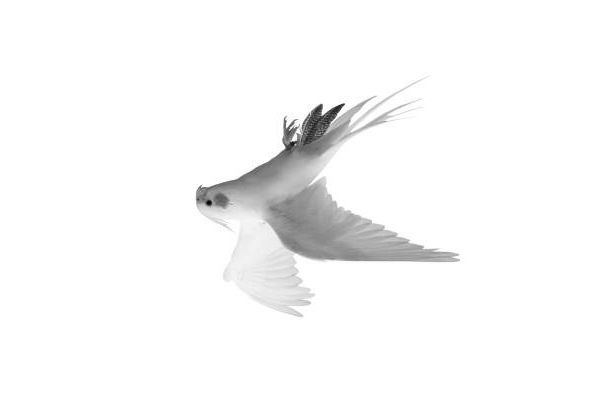Bird: (193, 73, 463, 324)
